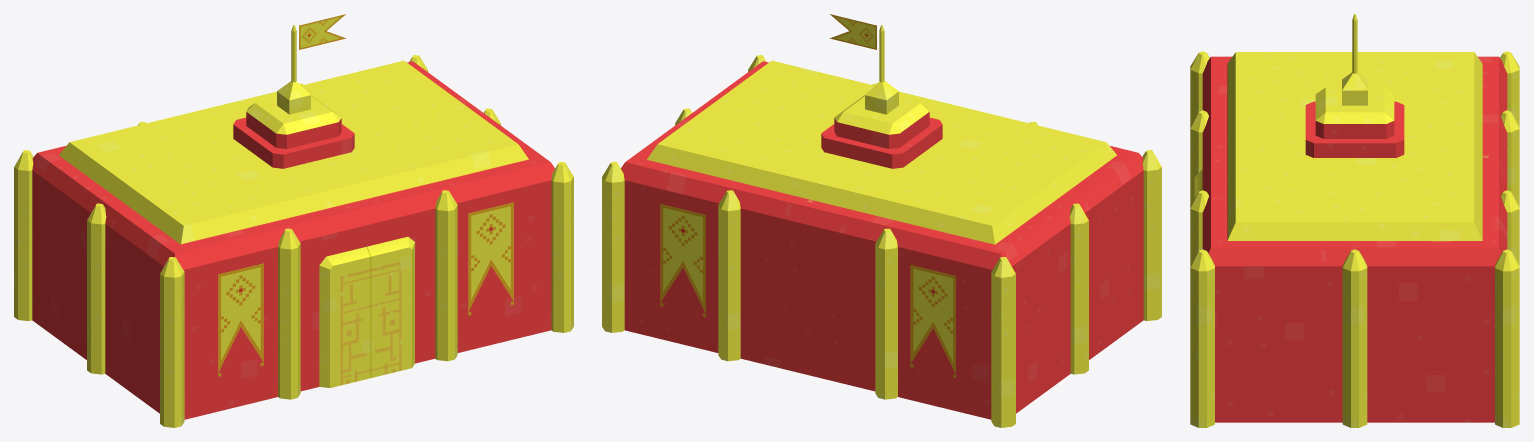
File: C3_King_s bedroom.FBX
3 views of the same model, side by side, from view 1: azimuth 30°, elevation 25°; view 2: azimuth 150°, elevation 25°; view 3: azimuth 270°, elevation 25° (orthographic). The views are drawn at different scales.
Parts seen in each view (by area): view 1: Box029, king's bedroom, Box031, Box030, Plane001; view 2: Box029, king's bedroom, Box030, Plane001; view 3: king's bedroom, Box029, Box030.
Part boxes in pixels (bbox=[...]): Box029: bbox=[32, 61, 554, 419]; king's bedroom: bbox=[14, 25, 573, 427]; Box031: bbox=[319, 236, 414, 387]; Box030: bbox=[233, 117, 354, 168]; Plane001: bbox=[299, 14, 346, 49]; Box029: bbox=[621, 61, 1143, 419]; king's bedroom: bbox=[602, 25, 1161, 427]; Box030: bbox=[821, 117, 942, 168]; Plane001: bbox=[829, 14, 876, 49]; king's bedroom: bbox=[1190, 14, 1519, 427]; Box029: bbox=[1202, 56, 1507, 422]; Box030: bbox=[1305, 101, 1404, 157].
Bounding box in the file's own units: 354 × 245 × 236.
Materials: 1 (1 with a texture image).
